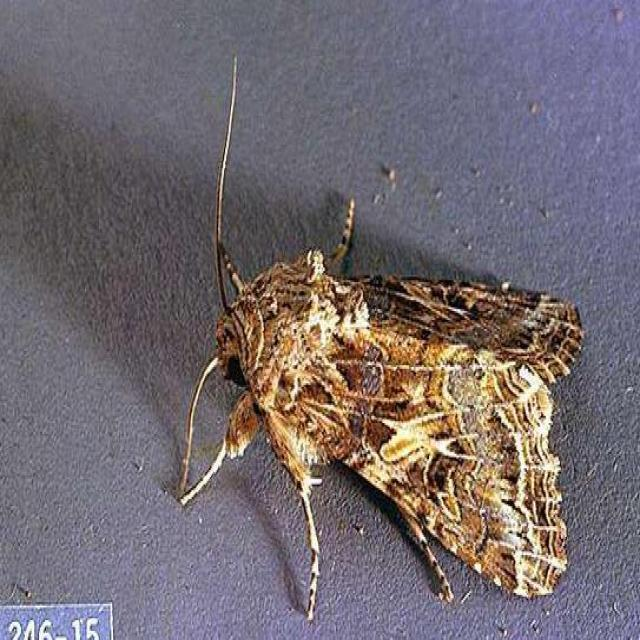armyworm: (171, 218, 601, 630)
